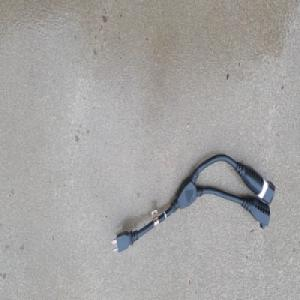Wire: (110, 152, 275, 257)
